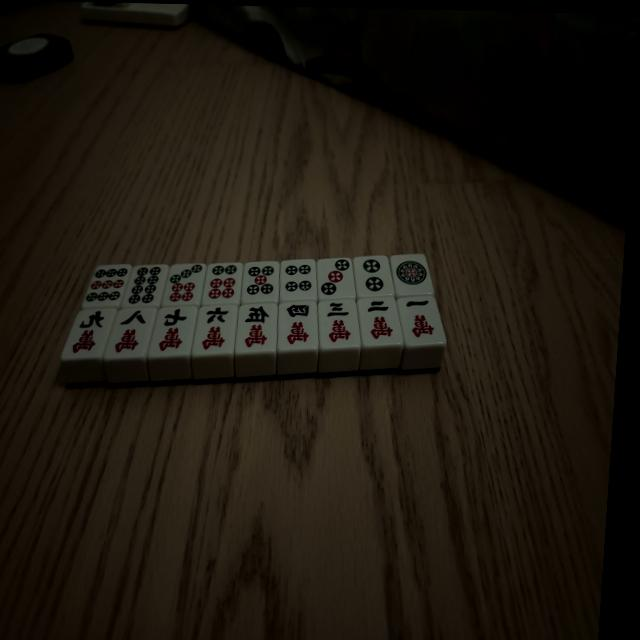m1: (394, 294, 448, 346)
m2: (353, 296, 405, 347)
m3: (315, 300, 363, 350)
m4: (277, 300, 322, 350)
m5: (236, 303, 280, 352)
m6: (195, 304, 238, 354)
m7: (149, 307, 196, 357)
m8: (104, 306, 156, 359)
m9: (61, 305, 116, 359)
t1: (386, 253, 435, 297)
t2: (350, 254, 396, 299)
t3: (313, 258, 356, 302)
t4: (278, 260, 318, 302)
t5: (240, 261, 280, 304)
t6: (202, 262, 243, 306)
t7: (160, 263, 205, 307)
t8: (121, 264, 167, 309)
t9: (81, 264, 132, 309)
